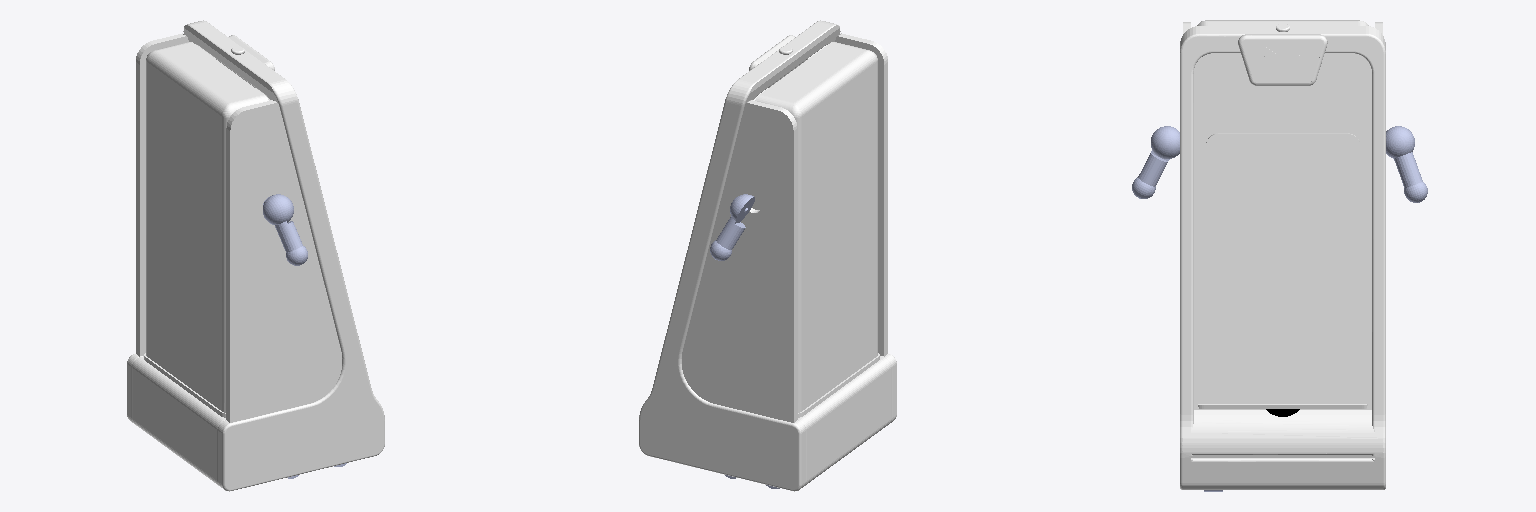
URDF robot description (robot10):
<?xml version="1.0" encoding="utf-8"?>
<robot name="robot10">

  <!-- Base footprint cho navigation/odometry -->
  <link name="base_footprint"/>

  <joint name="base_footprint_joint" type="fixed">
    <parent link="base_footprint"/>
    <child link="base_link"/>
    <origin xyz="0 0 0.1" rpy="0 0 0"/>
  </joint>

  <link name="base_link">
    <inertial>
      <origin xyz="-0.046181 9.8795E-06 0.46471" rpy="0 0 0" />
      <mass value="178.32" />
      <inertia ixx="21.786" ixy="-0.00012267" ixz="2.0934"
               iyy="20.297" iyz="0.00014782" izz="6.0392" />
    </inertial>
    <visual>
      <origin xyz="0 0 0" rpy="0 0 0" />
      <geometry>
        <mesh filename="package://robot10/meshes/base_link.STL" />
      </geometry>
      <material name="">
        <color rgba="1 1 1 1" />
      </material>
    </visual>
    <collision>
      <origin xyz="0 0 0" rpy="0 0 0" />
      <geometry>
        <mesh filename="package://robot10/meshes/base_link.STL" />
      </geometry>
    </collision>
  </link>

  <!-- Right Arm -->
  <link name="vai_phai">
    <inertial>
      <origin xyz="0.0126580061853205 0.00265931175498668 0.0289749706404558" rpy="0 0 0" />
      <mass value="0.192955081711892" />
      <inertia ixx="0.000192906979362119" ixy="6.49387659502792E-06" ixz="-2.23472154063851E-05"
               iyy="0.000163360135142605" iyz="-4.69474632985543E-06" izz="8.96349702736219E-05" />
    </inertial>
    <visual>
      <origin xyz="0 0 0" rpy="0 0 0" />
      <geometry>
        <mesh filename="package://robot10/meshes/vai_phai.STL" />
      </geometry>
      <material name="">
        <color rgba="0.792156862745098 0.819607843137255 0.933333333333333 1" />
      </material>
    </visual>
    <collision>
      <origin xyz="0 0 0" rpy="0 0 0" />
      <geometry>
        <mesh filename="package://robot10/meshes/vai_phai.STL" />
      </geometry>
    </collision>
  </link>

  <joint name="joint_vai_phai" type="revolute">
    <origin xyz="-0.0960386376771324 -0.253 0.81456789448343" rpy="1.5707963267949 0 0" />
    <parent link="base_link" />
    <child link="vai_phai" />
    <axis xyz="0 0 -1" />
    <limit lower="-3.14" upper="3.14" effort="1000" velocity="1000" />
  </joint>

  <link name="tay_phai">
    <inertial>
      <origin xyz="-0.027380362131083 -0.0542677637478641 0.0049974646906277" rpy="0 0 0" />
      <mass value="0.398270069509028" />
      <inertia ixx="0.00110443447702934" ixy="-0.000445378328536928" ixz="0.000162384007186909"
               iyy="0.000507438726421601" iyz="0.00031172290202074" izz="0.00126394964504092" />
    </inertial>
    <visual>
      <origin xyz="0 0 0" rpy="0 0 0" />
      <geometry>
        <mesh filename="package://robot10/meshes/tay_phai.STL" />
      </geometry>
      <material name="">
        <color rgba="0.792156862745098 0.819607843137255 0.933333333333333 1" />
      </material>
    </visual>
    <collision>
      <origin xyz="0 0 0" rpy="0 0 0" />
      <geometry>
        <mesh filename="package://robot10/meshes/tay_phai.STL" />
      </geometry>
    </collision>
  </link>

  <joint name="joint_tay_phai" type="revolute">
    <origin xyz="0 0 0.0389999999999999" rpy="0 1.5707963267949 0" />
    <parent link="vai_phai" />
    <child link="tay_phai" />
    <axis xyz="0 0.205594438061814 0.978637280629574" />
    <limit lower="-3.14" upper="3.14" effort="1000" velocity="1000" />
  </joint>

  <!-- Left Arm -->
  <link name="vai_trai">
    <inertial>
      <origin xyz="0.0118025116038498 -0.00529129927216276 0.0324970428696625" rpy="0 0 0" />
      <mass value="0.192955044310583" />
      <inertia ixx="0.000188869732095414" ixy="-1.20481933735818E-05" ixz="-2.08368006469879E-05"
               iyy="0.000167397381407595" iyz="9.34164889121365E-06" izz="8.96349699171804E-05" />
    </inertial>
    <visual>
      <origin xyz="0 0 0" rpy="0 0 0" />
      <geometry>
        <mesh filename="package://robot10/meshes/vai_trai.STL" />
      </geometry>
      <material name="">
        <color rgba="0.792156862745098 0.819607843137255 0.933333333333333 1" />
      </material>
    </visual>
    <collision>
      <origin xyz="0 0 0" rpy="0 0 0" />
      <geometry>
        <mesh filename="package://robot10/meshes/vai_trai.STL" />
      </geometry>
    </collision>
  </link>

  <joint name="vai_trai_joint" type="revolute">
    <origin xyz="-0.096039 0.24948 0.81457" rpy="1.5708 0 3.1416" />
    <parent link="base_link" />
    <child link="vai_trai" />
    <axis xyz="0 0 -1" />
    <limit lower="-3.14" upper="3.14" effort="10000" velocity="10000" />
  </joint>

  <link name="tay_trai">
    <inertial>
      <origin xyz="-0.0206507344442213 -0.0570432080082387 -0.0112664468209333" rpy="0 0 0" />
      <mass value="0.398270060486136" />
      <inertia ixx="0.00120676196831275" ixy="-0.000372922239205954" ixz="5.079480223879E-05"
               iyy="0.000311649450196617" iyz="0.000140309761973243" izz="0.00135741134685741" />
    </inertial>
    <visual>
      <origin xyz="0 0 0" rpy="0 0 0" />
      <geometry>
        <mesh filename="package://robot10/meshes/tay_trai.STL" />
      </geometry>
      <material name="">
        <color rgba="0.792156862745098 0.819607843137255 0.933333333333333 1" />
      </material>
    </visual>
    <collision>
      <origin xyz="0 0 0" rpy="0 0 0" />
      <geometry>
        <mesh filename="package://robot10/meshes/tay_trai.STL" />
      </geometry>
    </collision>
  </link>

  <joint name="tay_trai_joint" type="revolute">
    <origin xyz="0.00456246393911 -0.00204546395820604 0.042522069716441" rpy="0.421459631551507 1.5707963267949 0" />
    <parent link="vai_trai" />
    <child link="tay_trai" />
    <axis xyz="0 0 1" />
    <limit lower="-3.14" upper="3.14" effort="10000" velocity="10000" />
  </joint>

  <!-- Drive Wheels -->
  <link name="banh_phai_link">
    <inertial>
      <origin xyz="-4.61156896984232E-18 -2.77555756156289E-17 -0.0145" rpy="0 0 0" />
      <mass value="0.192422550032375" />
      <inertia ixx="0.000113665603825374" ixy="-6.21019631217728E-22" ixz="1.38348714718202E-21"
               iyy="0.000113665603825374" iyz="-6.4850960024158E-23" izz="0.000150330117212793" />
    </inertial>
    <visual>
      <origin xyz="0 0 0" rpy="0 0 0" />
      <geometry>
        <mesh filename="package://robot10/meshes/banh_phai_link.STL" />
      </geometry>
      <material name="">
        <color rgba="0.792156862745098 0.819607843137255 0.933333333333333 1" />
      </material>
    </visual>
    <collision>
      <origin xyz="0 0 0" rpy="0 0 0" />
      <geometry>
        <mesh filename="package://robot10/meshes/banh_phai_link.STL" />
      </geometry>
    </collision>
  </link>

  <joint name="banh_phai_joint" type="continuous">
    <origin xyz="0.0039198 -0.16 0" rpy="1.5708 0 3.1416" />
    <parent link="base_link" />
    <child link="banh_phai_link" />
    <axis xyz="0 0 1" />
  </joint>

  <link name="banh_trai_link">
    <inertial>
      <origin xyz="-3.64629352888475E-19 -1.38777878078145E-17 0.00349999999999986" rpy="0 0 0" />
      <mass value="0.192422550032375" />
      <inertia ixx="0.000113665603825374" ixy="-6.49612507724976E-22" ixz="6.36027921084214E-22"
               iyy="0.000113665603825374" iyz="-2.05247416988808E-38" izz="0.000150330117212793" />
    </inertial>
    <visual>
      <origin xyz="0 0 0" rpy="0 0 0" />
      <geometry>
        <mesh filename="package://robot10/meshes/banh_trai_link.STL" />
      </geometry>
      <material name="">
        <color rgba="0.792156862745098 0.819607843137255 0.933333333333333 1" />
      </material>
    </visual>
    <collision>
      <origin xyz="0 0 0" rpy="0 0 0" />
      <geometry>
        <mesh filename="package://robot10/meshes/banh_trai_link.STL" />
      </geometry>
    </collision>
  </link>

  <joint name="banh_trai_joint" type="continuous">
    <origin xyz="0.0039198 0.171 0" rpy="1.5708 0 3.1416" />
    <parent link="base_link" />
    <child link="banh_trai_link" />
    <axis xyz="0 0 1" />
  </joint>

  <!-- Caster Wheels - ĐÃ BỔ SUNG ĐẦY ĐỦ LINK -->
  <link name="truoc_trai">
    <inertial>
      <origin xyz="0 -1.38777878078145E-17 -0.0245" rpy="0 0 0" />
      <mass value="0.192422550032375" />
      <inertia ixx="0.000113665603825374" ixy="4.79323592287395E-22" ixz="1.72935893397753E-22"
               iyy="0.000113665603825374" iyz="-6.91743573591011E-22" izz="0.000150330117212793" />
    </inertial>
    <visual>
      <origin xyz="0 0 0" rpy="0 0 0" />
      <geometry>
        <mesh filename="package://robot10/meshes/truoc_trai.STL" />
      </geometry>
      <material name="">
        <color rgba="0.792156862745098 0.819607843137255 0.933333333333333 1" />
      </material>
    </visual>
    <collision>
      <origin xyz="0 0 0" rpy="0 0 0" />
      <geometry>
        <mesh filename="package://robot10/meshes/truoc_trai.STL" />
      </geometry>
    </collision>
  </link>

  <joint name="truoc_trai_joint" type="continuous">
    <origin xyz="0.15123 0.2 0" rpy="1.5708 0 -3.1416" />
    <parent link="base_link" />
    <child link="truoc_trai" />
    <axis xyz="0 0 1" />
  </joint>

  <link name="truoc_phai">
    <inertial>
      <origin xyz="0 -1.38777878078145E-17 0.0245" rpy="0 0 0" />
      <mass value="0.192422550032375" />
      <inertia ixx="0.000113665603825374" ixy="4.79323592287395E-22" ixz="1.72935893397753E-22"
               iyy="0.000113665603825374" iyz="-6.91743573591011E-22" izz="0.000150330117212793" />
    </inertial>
    <visual>
      <origin xyz="0 0 0" rpy="0 0 0" />
      <geometry>
        <mesh filename="package://robot10/meshes/truoc_phai.STL" />
      </geometry>
      <material name="">
        <color rgba="0.792156862745098 0.819607843137255 0.933333333333333 1" />
      </material>
    </visual>
    <collision>
      <origin xyz="0 0 0" rpy="0 0 0" />
      <geometry>
        <mesh filename="package://robot10/meshes/truoc_phai.STL" />
      </geometry>
    </collision>
  </link>

  <joint name="truoc_phai_joint" type="continuous">
    <origin xyz="0.15123 -0.199 0" rpy="1.5708 0 -3.1416" />
    <parent link="base_link" />
    <child link="truoc_phai" />
    <axis xyz="0 0 1" />
  </joint>

  <link name="sau_trai">
    <inertial>
      <origin xyz="0 0 -0.0245" rpy="0 0 0" />
      <mass value="0.192422550032375" />
      <inertia ixx="0.000113665603825374" ixy="-3.28390703183552E-21" ixz="-5.18807680193258E-22"
               iyy="0.000113665603825374" iyz="1.03761536038652E-21" izz="0.000150330117212793" />
    </inertial>
    <visual>
      <origin xyz="0 0 0" rpy="0 0 0" />
      <geometry>
        <mesh filename="package://robot10/meshes/sau_trai.STL" />
      </geometry>
      <material name="">
        <color rgba="0.792156862745098 0.819607843137255 0.933333333333333 1" />
      </material>
    </visual>
    <collision>
      <origin xyz="0 0 0" rpy="0 0 0" />
      <geometry>
        <mesh filename="package://robot10/meshes/sau_trai.STL" />
      </geometry>
    </collision>
  </link>

  <joint name="sau_trai_joint" type="continuous">
    <origin xyz="-0.12631 0.2 0" rpy="1.5708 0 -3.1416" />
    <parent link="base_link" />
    <child link="sau_trai" />
    <axis xyz="0 0 1" />
  </joint>

  <link name="sau_phai">
    <inertial>
      <origin xyz="0 0 0" rpy="0 0 0" />
      <mass value="0.192422550032375" /> <!-- Sửa mass = 0 thành giá trị hợp lý -->
      <inertia ixx="0.000113665603825374" ixy="0" ixz="0"
               iyy="0.000113665603825374" iyz="0" izz="0.000150330117212793" />
    </inertial>
    <visual>
      <origin xyz="0 0 0" rpy="0 0 0" />
      <geometry>
        <mesh filename="package://robot10/meshes/sau_phai.STL" />
      </geometry>
      <material name="">
        <color rgba="0.792156862745098 0.819607843137255 0.933333333333333 1" />
      </material>
    </visual>
    <collision>
      <origin xyz="0 0 0" rpy="0 0 0" />
      <geometry>
        <mesh filename="package://robot10/meshes/sau_phai.STL" />
      </geometry>
    </collision>
  </link>

  <joint name="sau_phai_joint" type="continuous">
    <origin xyz="-0.12631 -0.199 0" rpy="1.5708 0 -3.1416" />
    <parent link="base_link" />
    <child link="sau_phai" />
    <axis xyz="0 0 1" />
  </joint>

  <!-- Sensors -->
  <link name="laser_frame">
    <visual>
      <geometry>
        <cylinder radius="0.05" length="0.1"/>
      </geometry>
      <material name="black">
        <color rgba="0 0 0 1"/>
      </material>
    </visual>
  </link>
  <joint name="laser_joint" type="fixed">
    <parent link="base_link"/>
    <child link="laser_frame"/>
    <origin xyz="0.15 0 0.15" rpy="0 0 0"/>
  </joint>

  <link name="camera_frame">
  </link>
  <joint name="camera_joint" type="fixed">
    <parent link="base_link"/>
    <child link="camera_frame"/>
    <origin xyz="0.1 0 1.1" rpy="0 0 0"/>
  </joint>

  <!-- Gazebo Plugins (giữ nguyên như trước) -->
  <gazebo reference="camera_frame">
    <sensor type="camera" name="camera1">
      <update_rate>30.0</update_rate>
      <camera name="head">
        <horizontal_fov>1.3962634</horizontal_fov>
        <image>
          <width>640</width>
          <height>480</height>
          <format>R8G8B8</format>
        </image>
        <clip>
          <near>0.02</near>
          <far>300</far>
        </clip>
      </camera>
      <plugin name="camera_controller" filename="libgazebo_ros_camera.so">
        <alwaysOn>true</alwaysOn>
        <updateRate>0.0</updateRate>
        <cameraName>robot10/camera</cameraName>
        <imageTopicName>image_raw</imageTopicName>
        <cameraInfoTopicName>camera_info</cameraInfoTopicName>
        <frameName>camera_frame</frameName>
        <hackBaseline>0.07</hackBaseline>
      </plugin>
    </sensor>
  </gazebo>

  <gazebo reference="laser_frame">
    <sensor type="ray" name="head_hokuyo_sensor">
      <pose>0 0 0 0 0 0</pose>
      <visualize>true</visualize>
      <update_rate>40</update_rate>
      <ray>
        <scan>
          <horizontal>
            <samples>720</samples>
            <resolution>1</resolution>
            <min_angle>-3.1416</min_angle>
            <max_angle>3.1416</max_angle>
          </horizontal>
        </scan>
        <range>
          <min>0.5</min>
          <max>10.0</max>
          <resolution>0.01</resolution>
        </range>
        <noise>
          <type>gaussian</type>
          <mean>0.0</mean>
          <stddev>0.01</stddev>
        </noise>
      </ray>
      <plugin name="gazebo_ros_head_hokuyo_controller" filename="libgazebo_ros_laser.so">
        <topicName>/scan</topicName>
        <frameName>laser_frame</frameName>
      </plugin>
    </sensor>
  </gazebo>

  <gazebo>
    <plugin name="imu_plugin" filename="libgazebo_ros_imu.so">
      <alwaysOn>true</alwaysOn>
      <bodyName>base_link</bodyName>
      <topicName>imu</topicName>
      <gaussianNoise>0.0</gaussianNoise>
      <updateRate>20.0</updateRate>
    </plugin>
  </gazebo>

  <gazebo>
    <plugin name="differential_drive_controller" filename="libgazebo_ros_diff_drive.so">
      <updateRate>40</updateRate>
      <leftJoint>banh_trai_joint</leftJoint>
      <rightJoint>banh_phai_joint</rightJoint>
      <wheelSeparation>0.331</wheelSeparation>
      <wheelDiameter>0.075</wheelDiameter>
      <wheelAcceleration>1.0</wheelAcceleration>
      <wheelTorque>30</wheelTorque>
      <commandTopic>cmd_vel</commandTopic>
      <odometryTopic>odom</odometryTopic>
      <odometryFrame>odom</odometryFrame>
      <robotBaseFrame>base_footprint</robotBaseFrame>
      <publishOdom>true</publishOdom>
      <publishWheelTF>true</publishWheelTF>
      <publishWheelJointState>true</publishWheelJointState>
      <legacyMode>false</legacyMode>
    </plugin>
  </gazebo>

  <gazebo reference="truoc_trai"><mu1>0.01</mu1><mu2>0.01</mu2></gazebo>
  <gazebo reference="truoc_phai"><mu1>0.01</mu1><mu2>0.01</mu2></gazebo>
  <gazebo reference="sau_trai"><mu1>0.0</mu1><mu2>0.0</mu2></gazebo>
  <gazebo reference="sau_phai"><mu1>0.0</mu1><mu2>0.0</mu2></gazebo>

</robot>

--- What the picture shows (computed from the rendered views, not written in the file) ---
Views: 3 orthographic renders of the robot side by side, from view 1: azimuth 30°, elevation 25°; view 2: azimuth 150°, elevation 25°; view 3: azimuth 270°, elevation 25°.
Robot: robot10 — 14 links, 13 joints (4 revolute, 6 continuous, 3 fixed); root link base_footprint; default pose: all joints at 0.
Visible links, largest first — view 1: base_link, tay_phai; view 2: base_link, tay_trai; view 3: base_link, tay_trai, tay_phai, vai_phai.
Boxes of the visible links, x1,y1,x2,y2 form: base_link: (127,20,384,491); tay_phai: (263,196,307,265); base_link: (639,20,896,491); tay_trai: (710,194,754,260); base_link: (1180,20,1385,489); tay_trai: (1386,126,1427,202); tay_phai: (1132,126,1175,198); vai_phai: (1151,127,1179,158).
Size in the robot's own frame: 0.5 by 0.7468 by 1.2 metres.
Meshes: 11 distinct files referenced, 8 mesh visuals loaded (8 binary STL); not drawn: 3 (reference not matched to a file when rendering).
